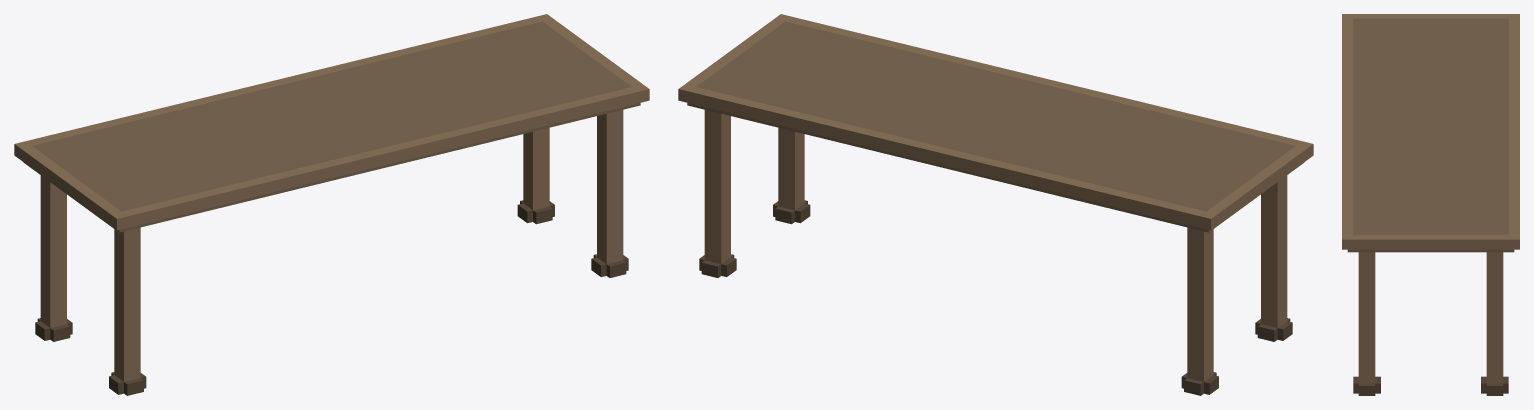
The model's file is Table1.fbx.
3 renders of one model, left to right at view 1: azimuth 30°, elevation 25°; view 2: azimuth 150°, elevation 25°; view 3: azimuth 270°, elevation 25°, orthographic. The views are drawn at different scales.
Parts seen in each view (by area): view 1: Box; view 2: Box; view 3: Box.
Part boxes in pixels (<box>): Box: <box>14,14,649,395</box>; Box: <box>678,14,1313,395</box>; Box: <box>1342,14,1519,395</box>.
Bounding box in the file's own units: 96 × 32 × 32.
